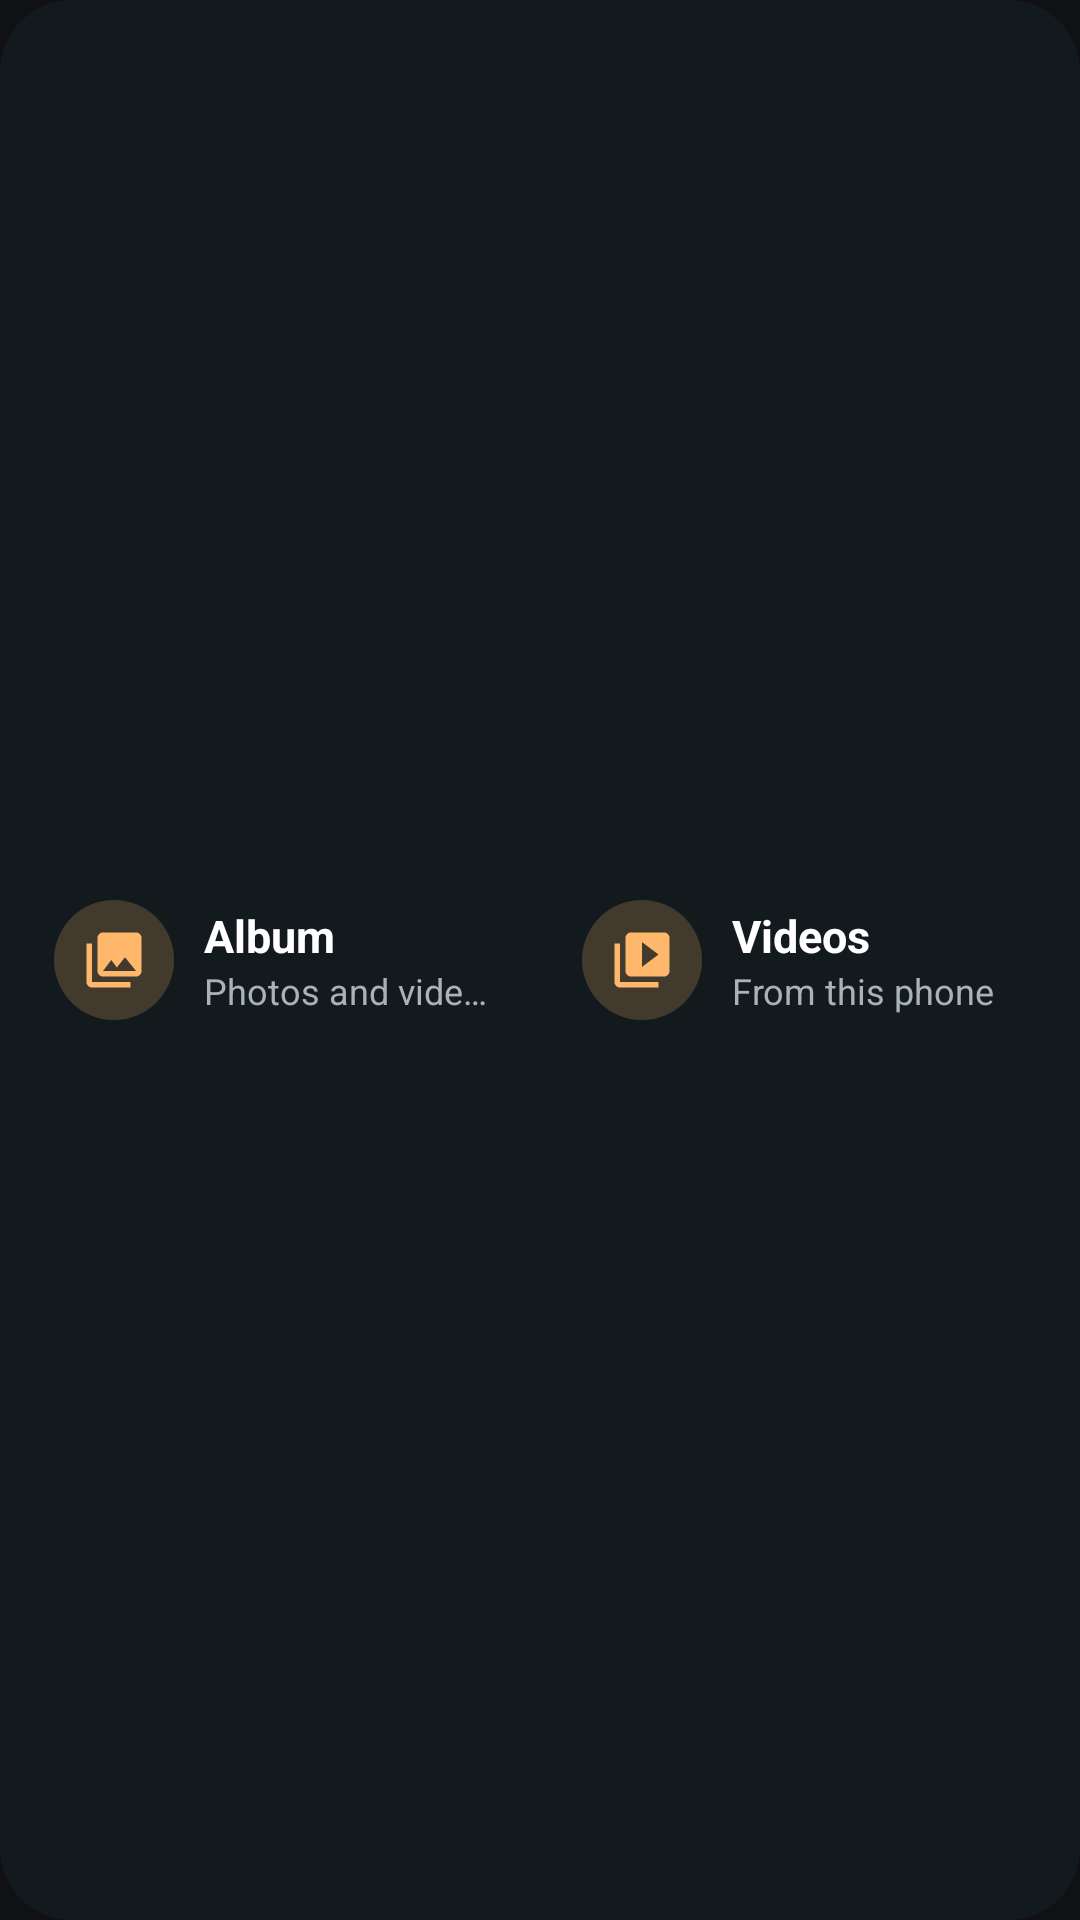

Screen size 1080 × 1920. Icon name, then its box in pixels as (left=x1, top=y1, right=x2, bottom=y2):
widget photos: (left=54, top=900, right=174, bottom=1020)
